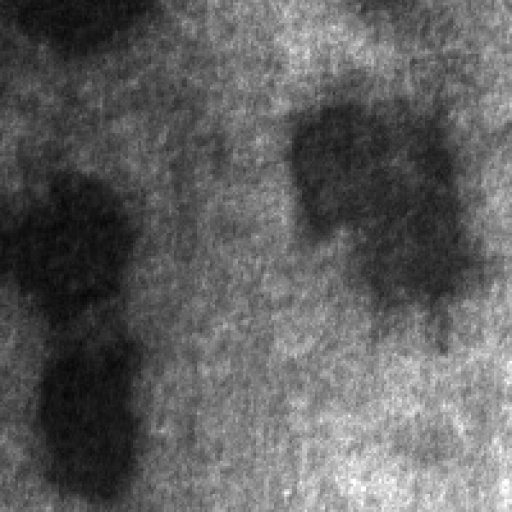patches: (274, 91, 504, 365), (1, 142, 162, 511), (0, 0, 212, 88)
